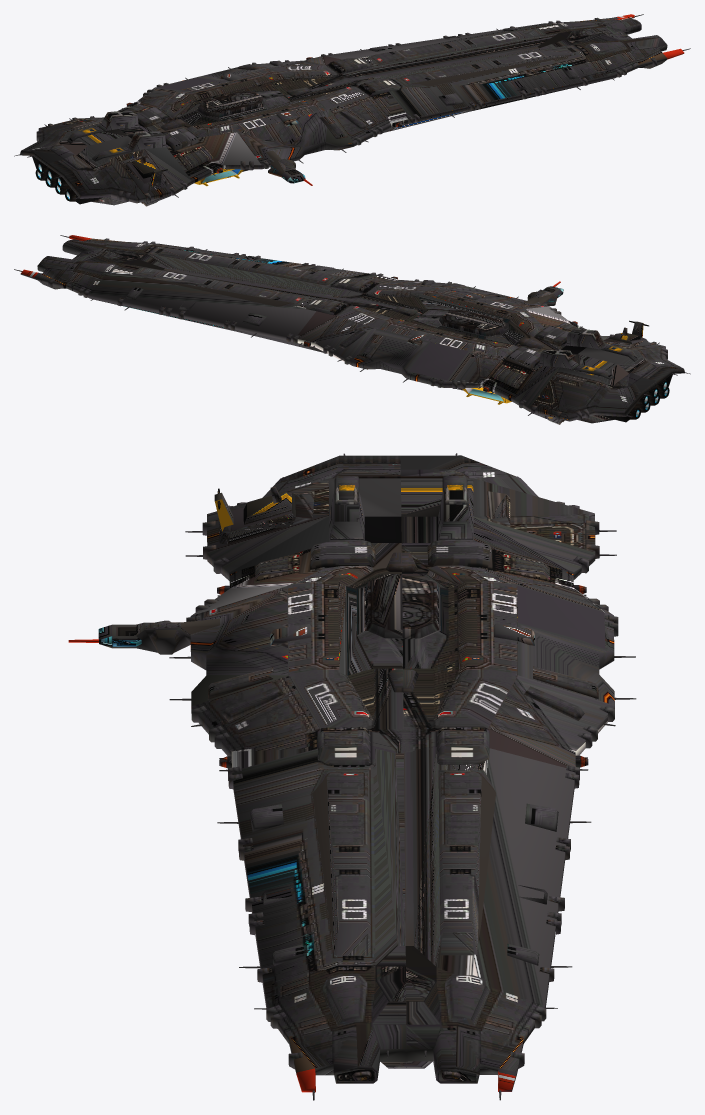
The model's file is hgn_battlecruiser.obj.
3 views of the same model, one above another, from view 1: azimuth 30°, elevation 25°; view 2: azimuth 150°, elevation 25°; view 3: azimuth 270°, elevation 25° (orthographic). The views are drawn at different scales.
Parts seen in each view (by area): view 1: hgn_battlecruiser; view 2: hgn_battlecruiser; view 3: hgn_battlecruiser.
Boxes of the visible parts, left/top/right/bottom form: hgn_battlecruiser: left=14, top=14, right=690, bottom=206; hgn_battlecruiser: left=14, top=235, right=690, bottom=424; hgn_battlecruiser: left=68, top=453, right=636, bottom=1100.
Size of the model in its own units: 962 by 99.44 by 378.
5 materials, 5 textured.
